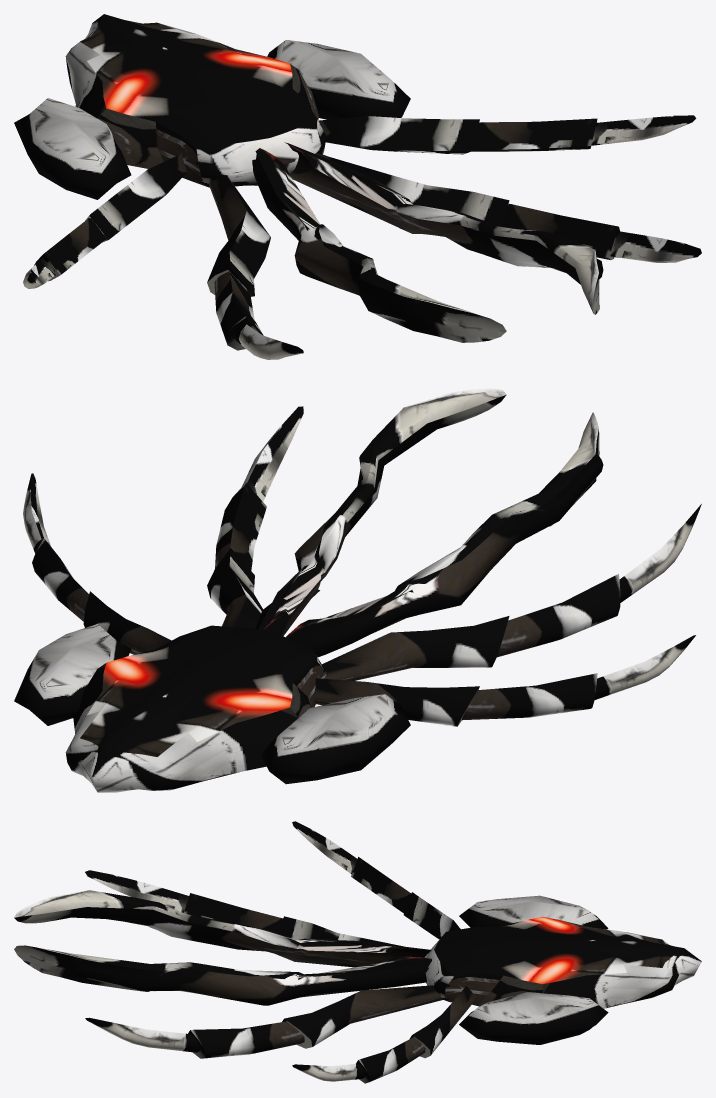
File: Priest.fbx
3 views of the same model, one above another, from view 1: azimuth 30°, elevation 25°; view 2: azimuth 150°, elevation 25°; view 3: azimuth 270°, elevation 25° (orthographic). The views are drawn at different scales.
Visible parts, largest first — view 1: Priest; view 2: Priest; view 3: Priest.
Boxes of the visible parts, box(x1,y1,x2,y2) form: Priest: box(14, 14, 701, 359); Priest: box(14, 388, 701, 792); Priest: box(14, 821, 701, 1083).
Size of the model in its own units: 250 by 36.27 by 299.
1 material, 1 textured.
